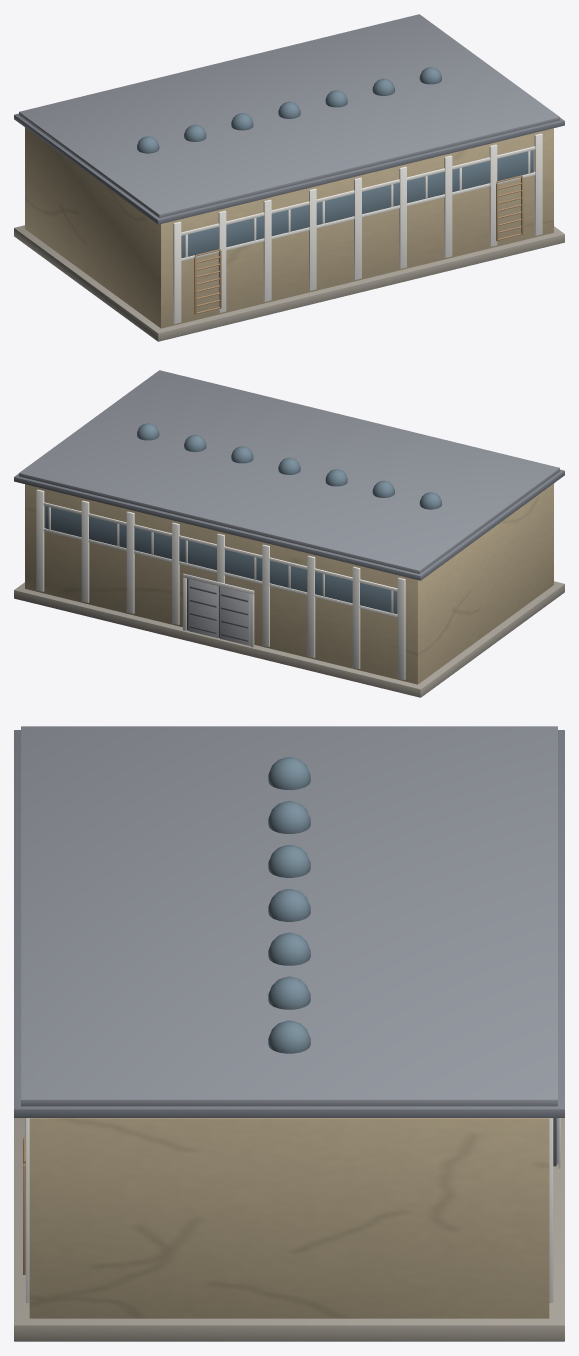
File: th42_turnhalle.glb
The picture shows the model from 3 angles, top to bottom: view 1: azimuth 30°, elevation 25°; view 2: azimuth 150°, elevation 25°; view 3: azimuth 270°, elevation 25°; orthographic projection. The views are drawn at different scales.
Parts seen in each view (by area): view 1: Cube.049, Cube.001, Cube, Cube.020, Cube.048, Cube.032, Cube.033, Cube.002, Cube.014, Cube.018, Cube.006, Cube.008 (+4 smaller); view 2: Cube.049, Cube.001, Cube, Cube.034, Cube.048, Cube.056, Cube.051, Cube.046, Cube.047, Cube.003, Cube.015, Cube.019 (+5 smaller); view 3: Cube.049, Cube.001, Cube, Cube.048, Sphere.005, Sphere.006, Sphere, Sphere.001, Sphere.002, Sphere.003, Sphere.004, Cube.018 (+1 smaller).
Boxes of the visible parts, bbox=[...] form: Cube.049: bbox=[19, 14, 559, 217]; Cube.001: bbox=[25, 127, 553, 328]; Cube: bbox=[14, 225, 564, 341]; Cube.020: bbox=[181, 150, 533, 258]; Cube.048: bbox=[14, 113, 564, 224]; Cube.032: bbox=[181, 146, 535, 235]; Cube.033: bbox=[181, 172, 535, 261]; Cube.002: bbox=[173, 221, 181, 323]; Cube.014: bbox=[444, 155, 452, 257]; Cube.018: bbox=[534, 133, 542, 235]; Cube.006: bbox=[263, 199, 271, 301]; Cube.008: bbox=[309, 188, 316, 290]; Cube.049: bbox=[19, 370, 559, 573]; Cube.001: bbox=[25, 483, 553, 684]; Cube: bbox=[14, 581, 564, 697]; Cube.034: bbox=[45, 506, 397, 614]; Cube.048: bbox=[14, 469, 564, 580]; Cube.056: bbox=[188, 579, 218, 638]; Cube.051: bbox=[220, 586, 250, 645]; Cube.046: bbox=[43, 502, 397, 591]; Cube.047: bbox=[43, 528, 397, 617]; Cube.003: bbox=[397, 577, 405, 679]; Cube.015: bbox=[126, 511, 134, 613]; Cube.019: bbox=[36, 489, 44, 591]; Cube.049: bbox=[21, 726, 557, 1106]; Cube.001: bbox=[29, 1118, 549, 1318]; Cube: bbox=[14, 1118, 564, 1341]; Cube.048: bbox=[14, 730, 564, 1117]; Sphere.005: bbox=[268, 976, 310, 1009]; Sphere.006: bbox=[268, 1020, 310, 1053]; Sphere: bbox=[268, 757, 310, 789]; Sphere.001: bbox=[268, 801, 310, 833]; Sphere.002: bbox=[268, 845, 310, 877]; Sphere.003: bbox=[268, 889, 310, 921]; Sphere.004: bbox=[268, 932, 310, 965]; Cube.018: bbox=[25, 1118, 29, 1302].
Size of the model in its own units: 25.9 by 8.32 by 15.9.
Materials: 9 (1 with a texture image).
